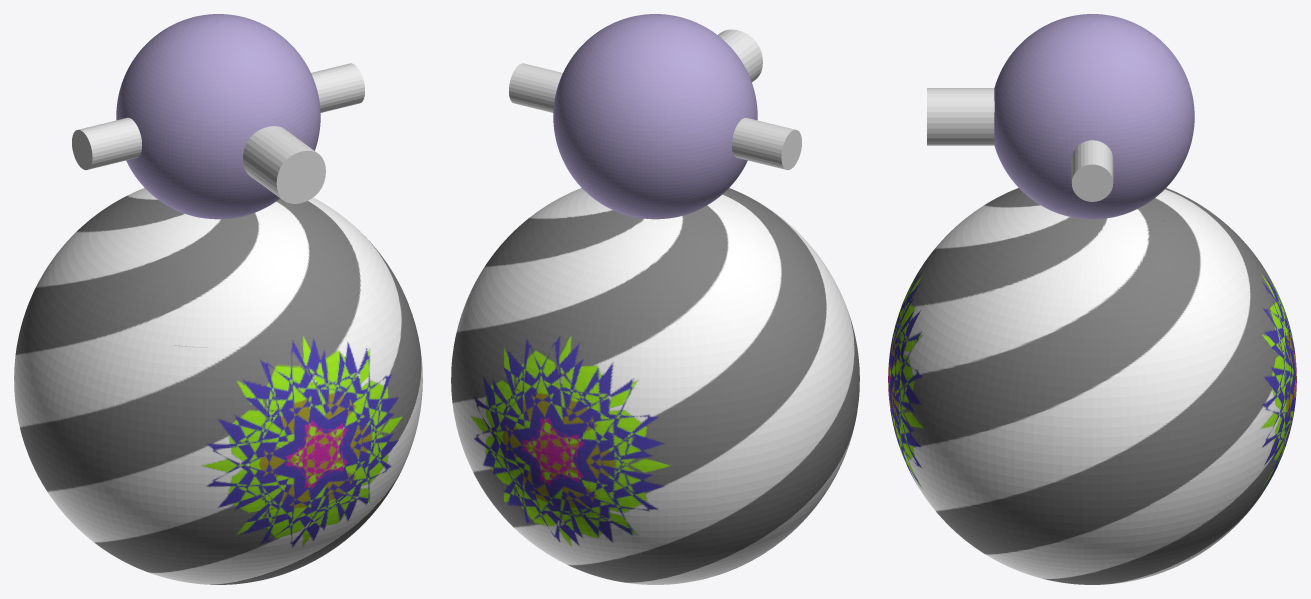
The model's file is BOD0_BMC0_BCC2_BPT3_FRC25_HEA0_HMC16_HCC7_HPT0_ELT1_ERT1_ELL1_ERL0_AP0_AAL0_AAR0_BEK1.fbx.
The picture shows the model from 3 angles, left to right: view 1: azimuth 30°, elevation 25°; view 2: azimuth 150°, elevation 25°; view 3: azimuth 270°, elevation 25°; orthographic projection.
Parts seen in each view (by area): view 1: Body, Beak, Ear, Ear.001; view 2: Body, Ear, Ear.001, Beak; view 3: Body, Beak, Ear.001.
Part boxes in pixels (left/top/right/bottom): Body: left=14, top=14, right=422, bottom=584; Beak: left=243, top=126, right=325, bottom=203; Ear: left=72, top=117, right=141, bottom=170; Ear.001: left=311, top=63, right=364, bottom=112; Body: left=451, top=14, right=859, bottom=584; Ear: left=732, top=117, right=801, bottom=170; Ear.001: left=509, top=63, right=562, bottom=112; Beak: left=718, top=29, right=762, bottom=81; Body: left=888, top=14, right=1296, bottom=584; Beak: left=927, top=88, right=994, bottom=145; Ear.001: left=1071, top=140, right=1113, bottom=201.
Size of the model in its own units: 49.36 by 72.41 by 49.36.
Materials: 1 (1 with a texture image).
